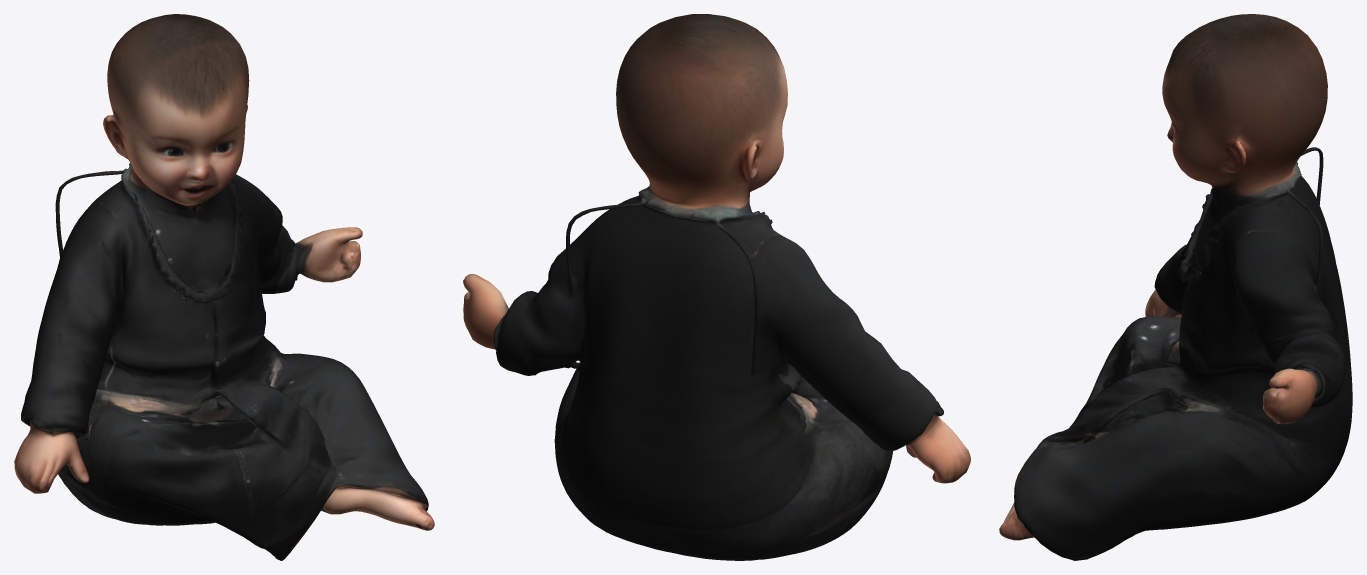
Rendered from ansh-new.glb.
3 views of the same model, side by side, from view 1: azimuth 30°, elevation 25°; view 2: azimuth 150°, elevation 25°; view 3: azimuth 270°, elevation 25° (orthographic). The views are drawn at different scales.
Parts seen in each view (by area): view 1: Mesh_0; view 2: Mesh_0; view 3: Mesh_0.
Part boxes in pixels (left/top/right/bottom): Mesh_0: left=14, top=14, right=434, bottom=560; Mesh_0: left=463, top=14, right=970, bottom=560; Mesh_0: left=999, top=14, right=1352, bottom=560.
Bounding box in the file's own units: 1.44 × 1.64 × 1.11.
Materials: 1 (1 with a texture image).
